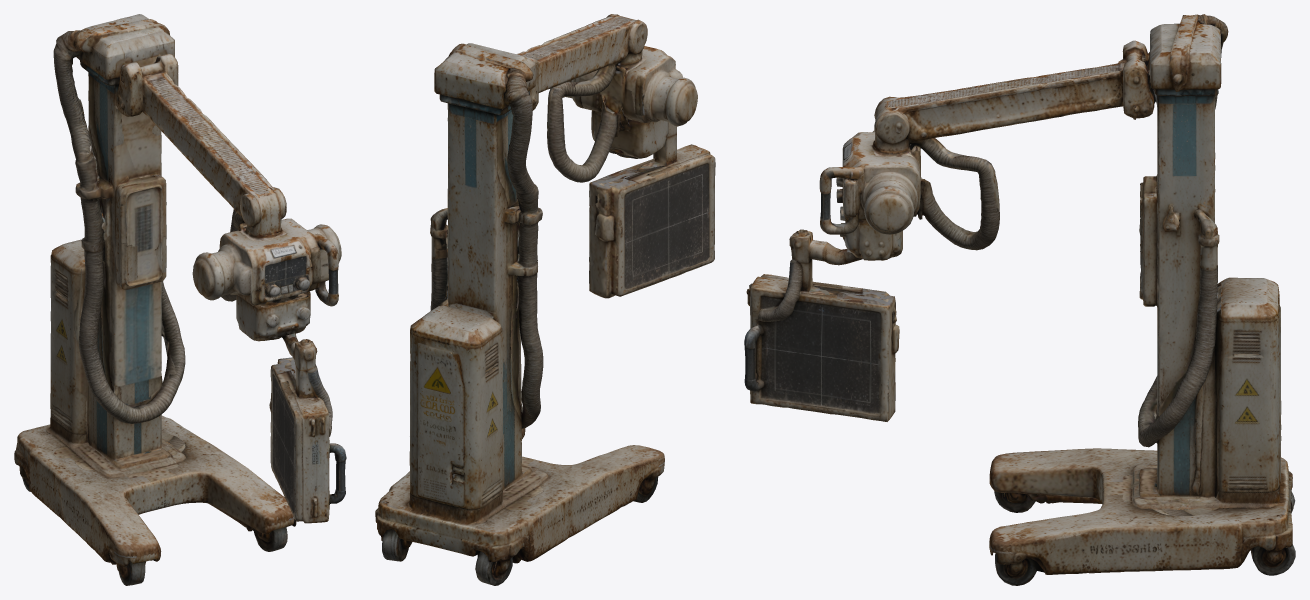
File: XRayMachine.fbx
3 renders of one model, left to right at view 1: azimuth 30°, elevation 25°; view 2: azimuth 150°, elevation 25°; view 3: azimuth 270°, elevation 25°, orthographic. The views are drawn at different scales.
Parts seen in each view (by area): view 1: texture_mapping; view 2: texture_mapping; view 3: texture_mapping.
Boxes of the visible parts, x1=… form: texture_mapping: x1=14, y1=14, x2=346, y2=585; texture_mapping: x1=375, y1=14, x2=715, y2=585; texture_mapping: x1=744, y1=14, x2=1295, y2=585.
Bounding box in the file's own units: 0.3906 × 0.9715 × 1.
Materials: 1 (1 with a texture image).
